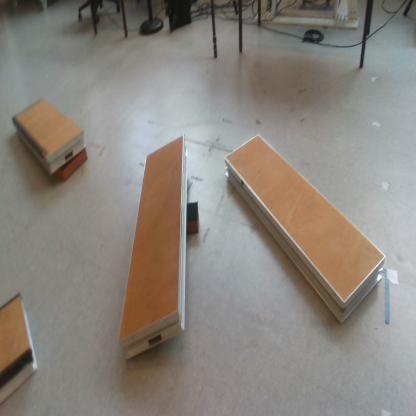Stairs: (226, 136, 386, 325), (118, 134, 190, 359), (14, 99, 87, 178), (1, 293, 38, 404)
